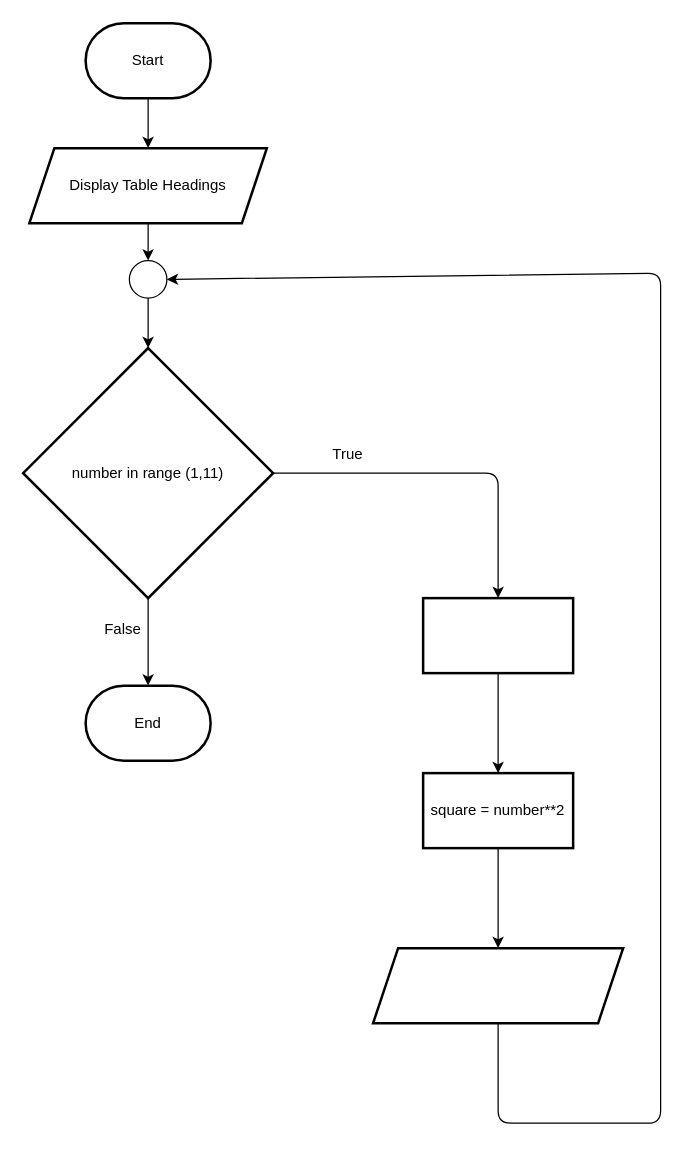
Image size: 693x1155. Some labels were removed from this diagram. The box of each missing label's shape, as (x1, y1, x2, y2) in pixels:
Assign the next value in the list to number.: (421, 596, 574, 674)
Display the number variable and the square variable.: (371, 946, 624, 1024)
